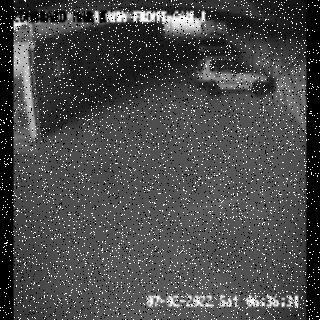car: (194, 57, 273, 95)
